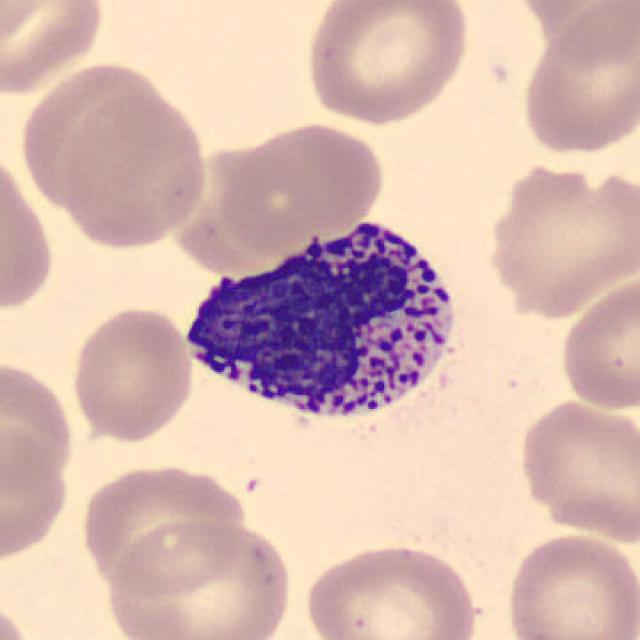Basophil: (171, 208, 469, 439)
RBC: (55, 83, 212, 252), (482, 157, 638, 319), (14, 58, 172, 212), (103, 516, 297, 640), (215, 116, 388, 252), (77, 458, 247, 592), (302, 0, 475, 129), (517, 2, 640, 158), (298, 537, 483, 640), (514, 395, 638, 545), (68, 302, 198, 442), (502, 529, 638, 640), (556, 274, 638, 414), (0, 354, 78, 494), (0, 421, 73, 568), (0, 0, 108, 98), (0, 145, 57, 319), (510, 0, 638, 62), (0, 594, 39, 640)
